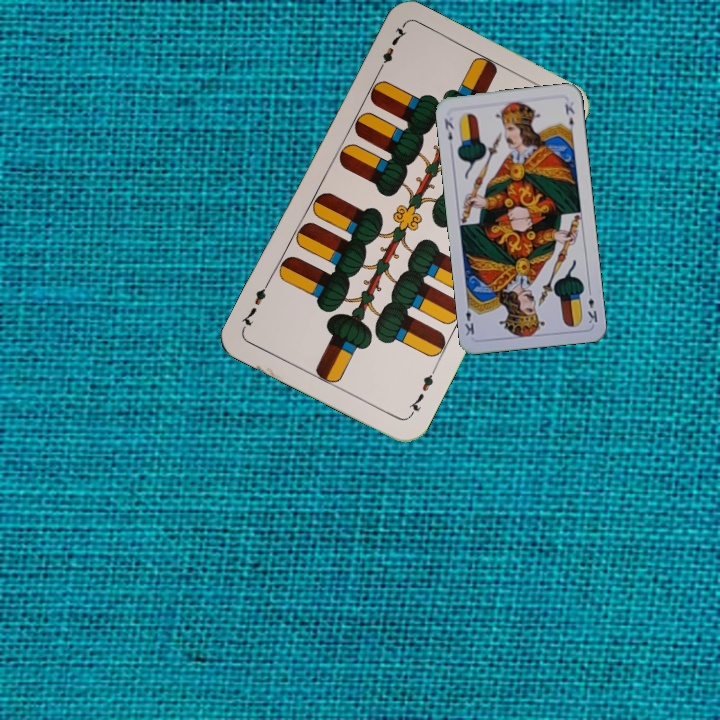E7: (373, 22, 409, 77), (404, 364, 439, 419)
EK: (583, 285, 600, 326), (440, 115, 456, 143)
